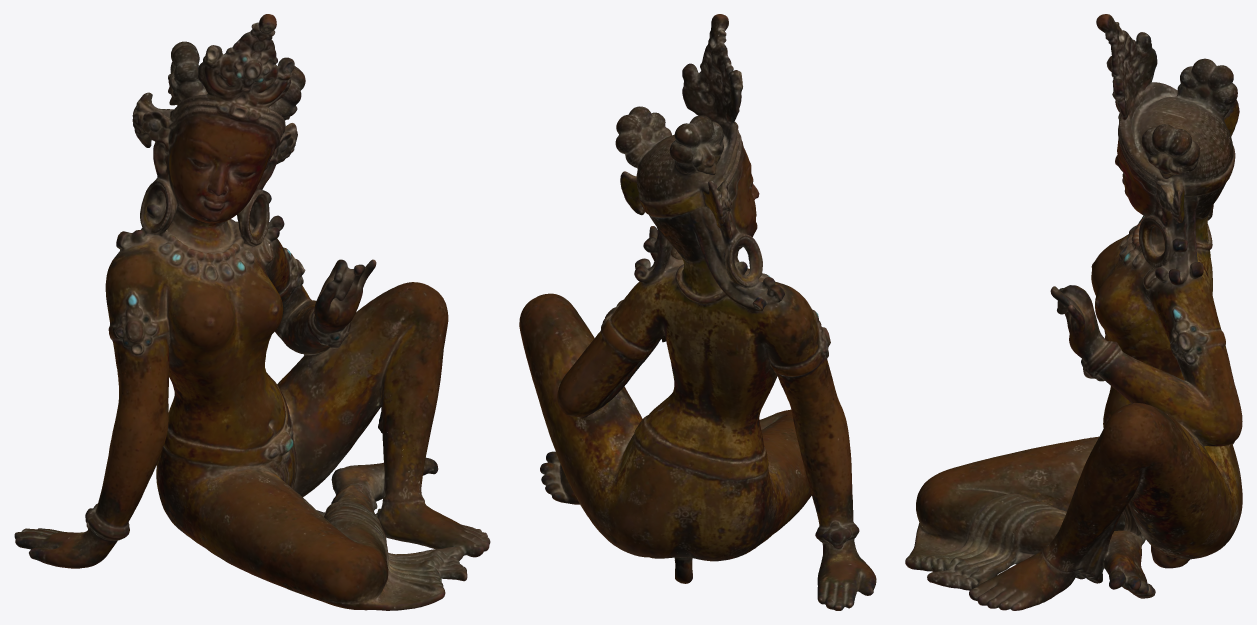
The model's file is goddess-uma-hi.glb.
The picture shows the model from 3 angles, left to right: view 1: azimuth 30°, elevation 25°; view 2: azimuth 150°, elevation 25°; view 3: azimuth 270°, elevation 25°; orthographic projection. The views are drawn at different scales.
Parts seen in each view (by area): view 1: Object_2, Object_3; view 2: Object_2, Object_3; view 3: Object_2, Object_3.
Part boxes in pixels (x1=…): Object_2: x1=14, y1=14, x2=490, y2=609; Object_3: x1=14, y1=20, x2=489, y2=610; Object_2: x1=519, y1=14, x2=873, y2=609; Object_3: x1=519, y1=19, x2=876, y2=610; Object_2: x1=916, y1=14, x2=1242, y2=610; Object_3: x1=905, y1=16, x2=1241, y2=608.
Bounding box in the file's own units: 0.2715 × 0.3753 × 0.2086.
Materials: 1 (1 with a texture image).
